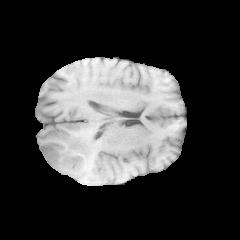glioma: (41, 127, 109, 177)
